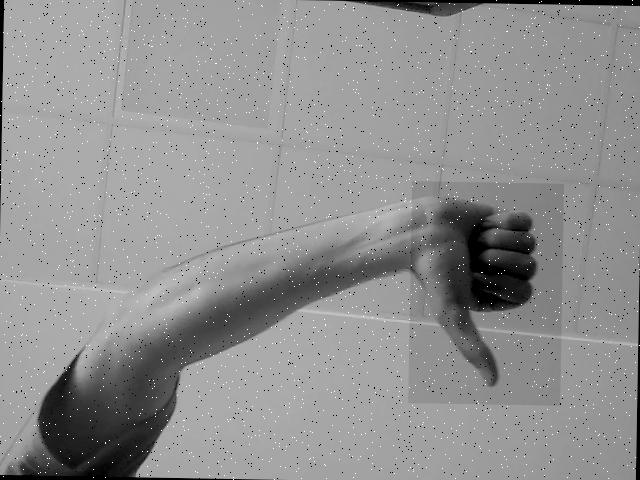bad: (408, 181, 564, 406)
